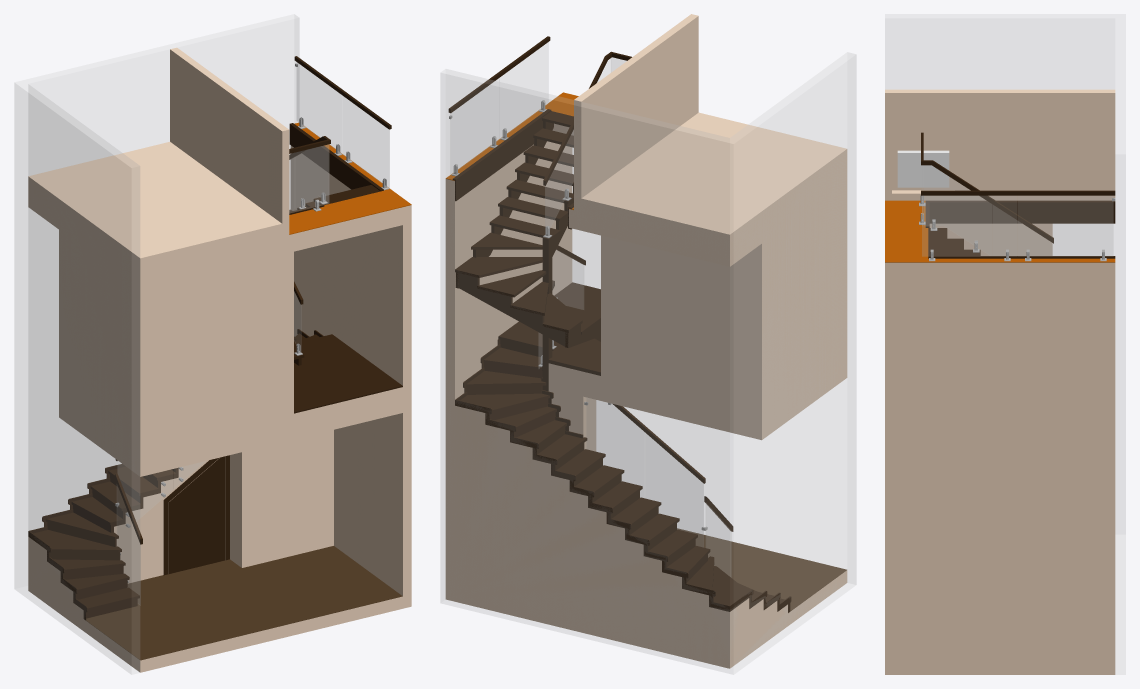
Rendered from Ограждение лестница_Вар2.obj.
3 renders of one model, left to right at view 1: azimuth 30°, elevation 25°; view 2: azimuth 150°, elevation 25°; view 3: azimuth 270°, elevation 25°, orthographic. The views are drawn at different scales.
Bounding box in the file's own units: 4.76 × 8.23 × 3.45.
